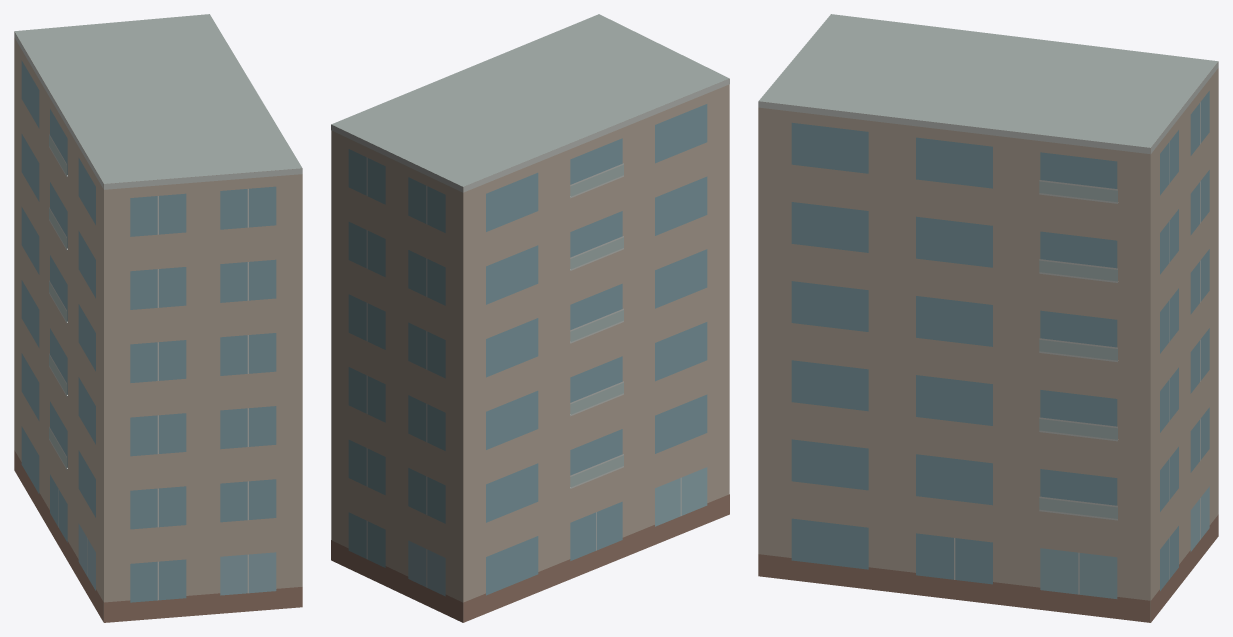
The model's file is survey-upis-32872680.glb.
The picture shows the model from 3 angles, left to right: view 1: azimuth 30°, elevation 25°; view 2: azimuth 150°, elevation 25°; view 3: azimuth 270°, elevation 25°; orthographic projection. The views are drawn at different scales.
Visible parts, largest first — view 1: survey-upis-32872680.tmp; view 2: survey-upis-32872680.tmp; view 3: survey-upis-32872680.tmp.
Boxes of the visible parts, x1,y1,x2,y2 form: survey-upis-32872680.tmp: (14, 14, 302, 622); survey-upis-32872680.tmp: (331, 14, 729, 622); survey-upis-32872680.tmp: (758, 14, 1218, 622).
Bounding box in the file's own units: 11.07 × 18.3 × 16.08.
